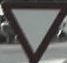Give way: (0, 0, 64, 61)
